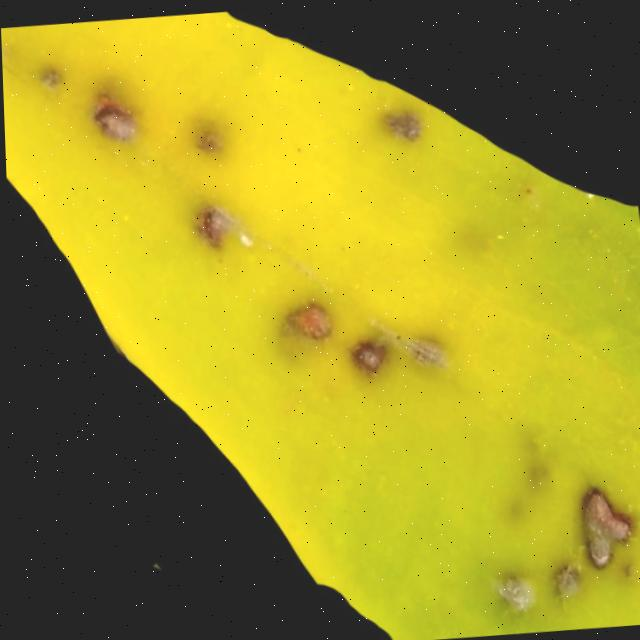mite: (2, 13, 458, 410), (385, 323, 443, 367), (487, 566, 533, 613), (187, 200, 230, 249), (25, 54, 70, 97), (343, 334, 386, 374), (540, 556, 579, 598), (186, 115, 223, 155), (33, 61, 64, 89)
sunburn: (1, 4, 640, 640), (567, 476, 639, 570)
